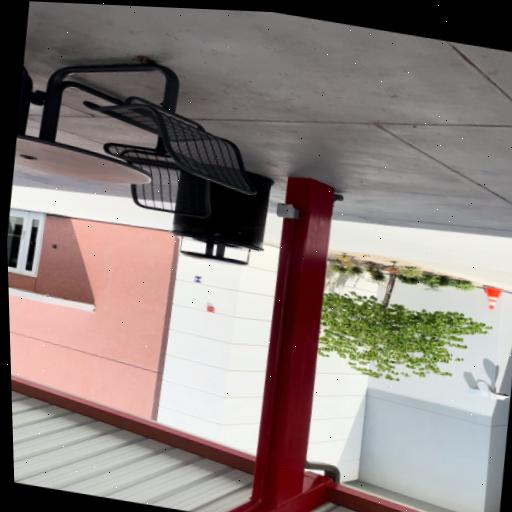target2: (193, 275, 202, 283)
